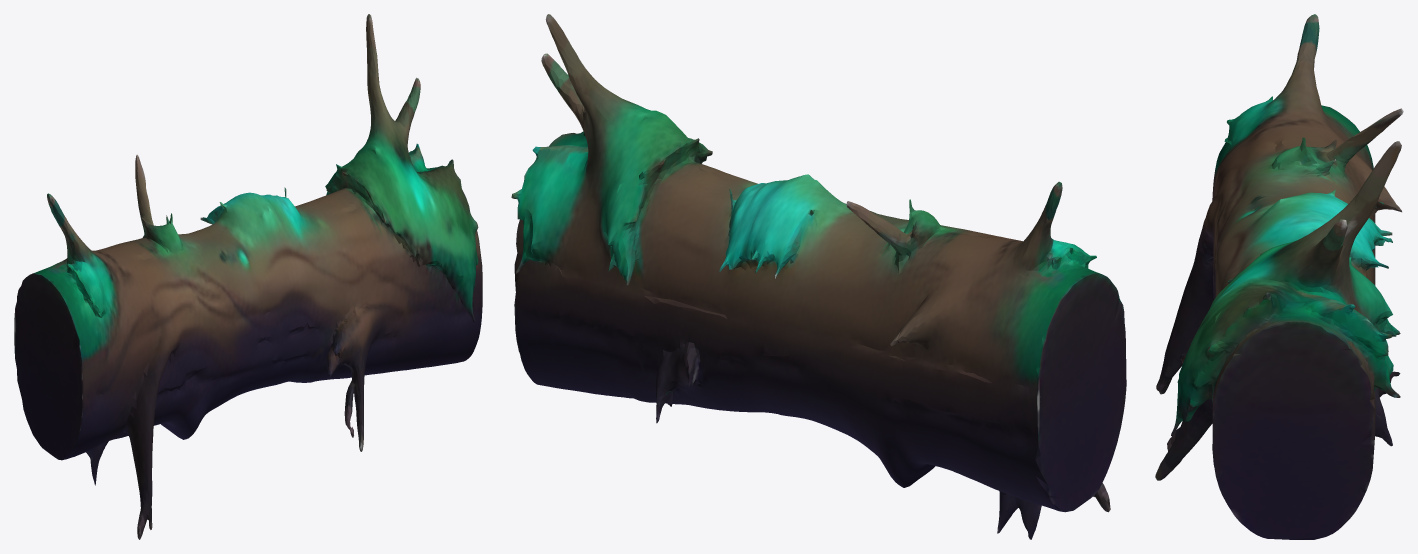
The model's file is Pandora_BranchBridge.glb.
3 renders of one model, left to right at view 1: azimuth 30°, elevation 25°; view 2: azimuth 150°, elevation 25°; view 3: azimuth 270°, elevation 25°, orthographic. The views are drawn at different scales.
Parts seen in each view (by area): view 1: Pandora_BranchBridge; view 2: Pandora_BranchBridge; view 3: Pandora_BranchBridge.
Part boxes in pixels (x1,y1,x2,y2): Pandora_BranchBridge: (14, 14, 482, 539); Pandora_BranchBridge: (511, 14, 1126, 539); Pandora_BranchBridge: (1155, 14, 1403, 539).
Size of the model in its own units: 4 by 3.56 by 1.8.
1 material, 1 textured.
